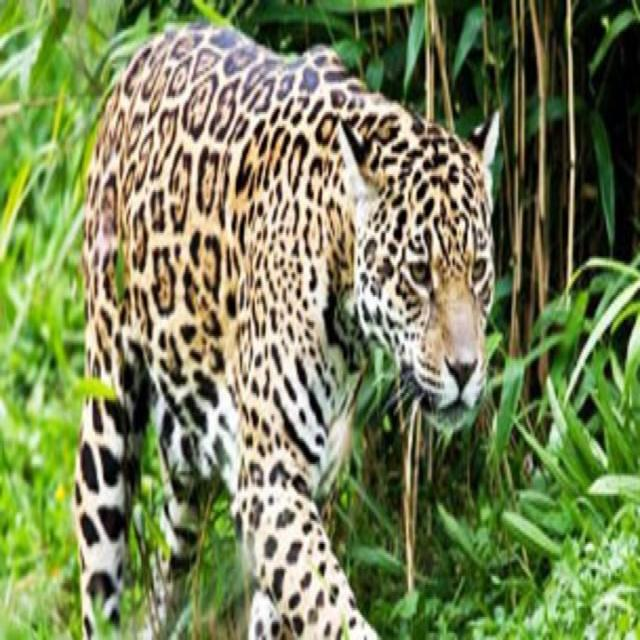Jaguar: (72, 21, 500, 546)
